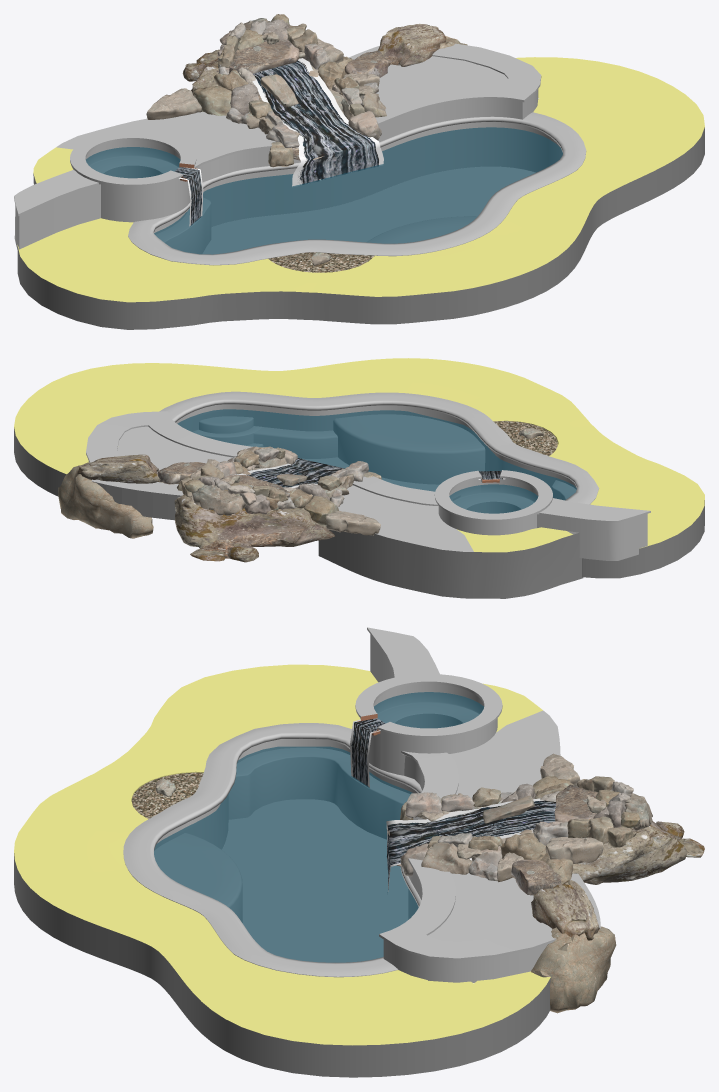
The model's file is Groff_Pool_01.fbx.
The picture shows the model from 3 angles, top to bottom: view 1: azimuth 30°, elevation 25°; view 2: azimuth 150°, elevation 25°; view 3: azimuth 270°, elevation 25°; orthographic projection. The views are drawn at different scales.
Visible parts, largest first — view 1: Groff_Ground, Water001_Groff, Groff_floor, Groff_trim_Walls, Groff_Rocks_Waterfall, Groff_HotTub, Groff_dirt, Waterfall_Groff, Hottub_Floor, HotTubWater, PebbleBed, HotTub_waterfall; view 2: Groff_Ground, Groff_dirt, Groff_Rocks_Waterfall, Water001_Groff, Groff_floor, Groff_trim_Walls, Groff_HotTub, HotTubWater, Hottub_Floor, Waterfall_Groff, PebbleBed; view 3: Groff_Ground, Water001_Groff, Groff_floor, Groff_Rocks_Waterfall, Groff_trim_Walls, Groff_dirt, Groff_HotTub, Waterfall_Groff, Hottub_Floor, HotTubWater, PebbleBed, HotTub_waterfall.
Part boxes in pixels (x1,y1,x2,y2): Groff_Ground: [17, 57, 704, 329]; Water001_Groff: [154, 127, 562, 254]; Groff_floor: [156, 130, 562, 254]; Groff_trim_Walls: [128, 43, 586, 265]; Groff_Rocks_Waterfall: [146, 14, 467, 265]; Groff_HotTub: [14, 131, 197, 249]; Groff_dirt: [33, 45, 507, 184]; Waterfall_Groff: [252, 58, 383, 186]; Hottub_Floor: [85, 146, 180, 177]; HotTubWater: [86, 147, 180, 178]; PebbleBed: [268, 252, 374, 272]; HotTub_waterfall: [174, 167, 203, 226]; Groff_Ground: [14, 358, 704, 578]; Groff_dirt: [91, 426, 583, 598]; Groff_Rocks_Waterfall: [58, 427, 543, 562]; Water001_Groff: [177, 409, 576, 500]; Groff_floor: [179, 411, 575, 499]; Groff_trim_Walls: [86, 391, 598, 505]; Groff_HotTub: [434, 470, 650, 560]; HotTubWater: [449, 484, 538, 513]; Hottub_Floor: [449, 484, 537, 513]; Waterfall_Groff: [233, 458, 344, 488]; PebbleBed: [493, 421, 557, 455]; Groff_Ground: [14, 664, 550, 1077]; Water001_Groff: [154, 746, 418, 962]; Groff_floor: [154, 748, 418, 962]; Groff_Rocks_Waterfall: [156, 753, 704, 1013]; Groff_trim_Walls: [123, 723, 556, 982]; Groff_dirt: [428, 683, 600, 941]; Groff_HotTub: [355, 627, 502, 780]; Waterfall_Groff: [386, 798, 556, 891]; Hottub_Floor: [373, 691, 484, 727]; HotTubWater: [374, 692, 483, 728]; PebbleBed: [131, 772, 203, 819]; HotTub_waterfall: [350, 718, 385, 787].
Size of the model in its own units: 887 by 157 by 680.
